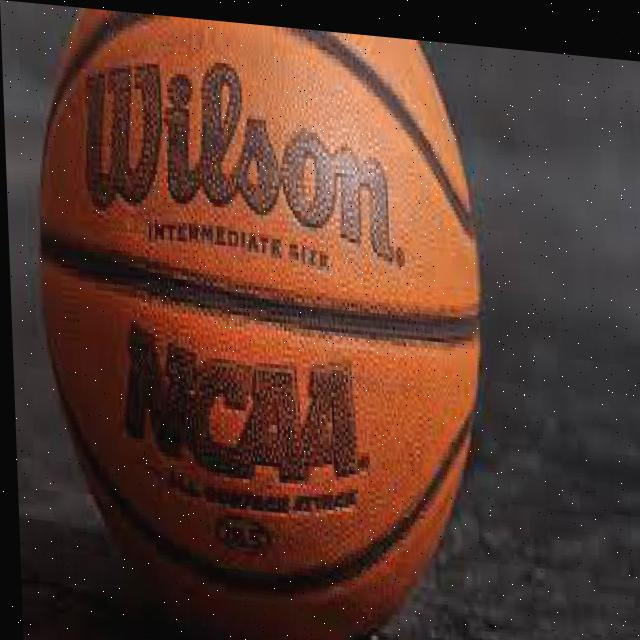Basketball: (27, 4, 494, 640)
